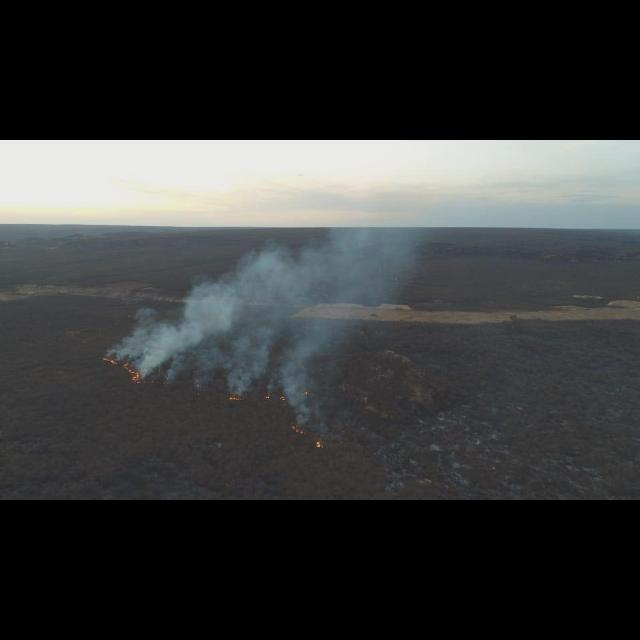Fire: (100, 354, 142, 386), (316, 440, 322, 448)
Smoke: (106, 222, 420, 361), (142, 362, 340, 395)
